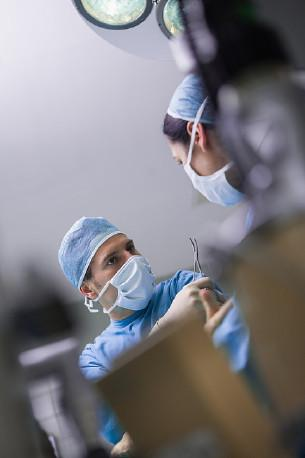OK: (172, 132, 244, 204), (92, 240, 157, 313)
